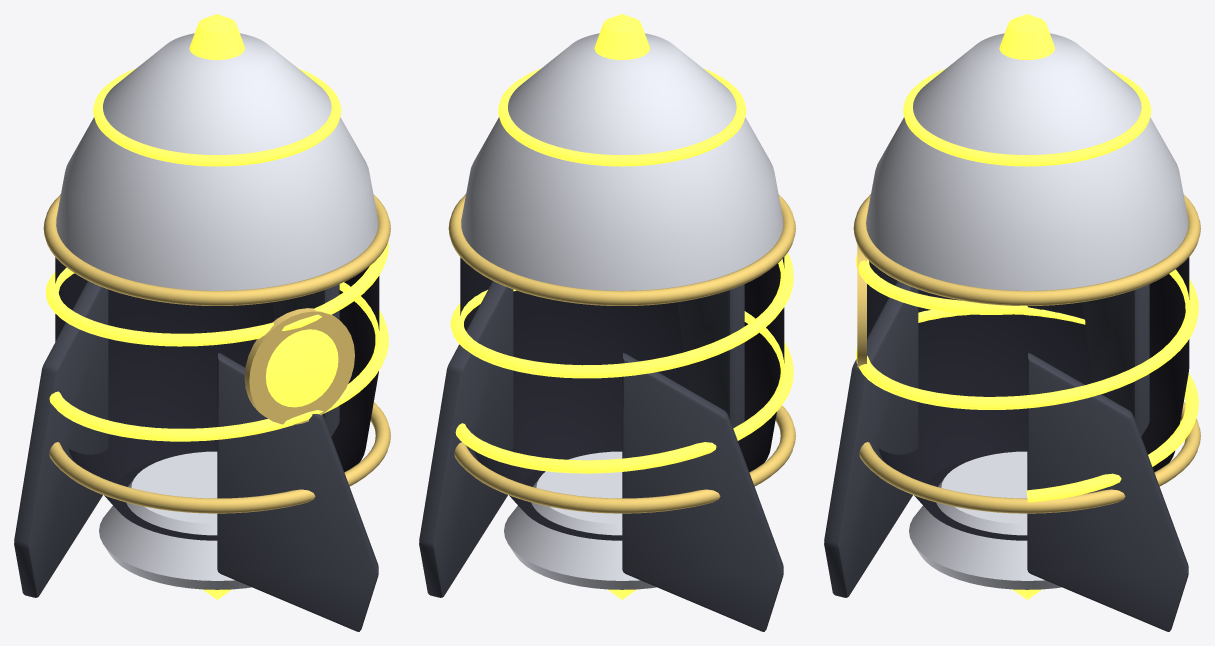
Rendered from CrateTrail.fbx.
3 renders of one model, left to right at view 1: azimuth 30°, elevation 25°; view 2: azimuth 150°, elevation 25°; view 3: azimuth 270°, elevation 25°, orthographic.
Visible parts, largest first — view 1: CrateTrail_Lid_Chrome, CrateTrail_Gunmetal, CrateTrail_Dark, CrateTrail_Gold, CrateTrail_Glow, CrateTrail_Chrome, CrateTrail_Lid_Glow; view 2: CrateTrail_Lid_Chrome, CrateTrail_Gunmetal, CrateTrail_Dark, CrateTrail_Gold, CrateTrail_Glow, CrateTrail_Chrome, CrateTrail_Lid_Glow; view 3: CrateTrail_Lid_Chrome, CrateTrail_Gunmetal, CrateTrail_Dark, CrateTrail_Gold, CrateTrail_Glow, CrateTrail_Chrome, CrateTrail_Lid_Glow.
Boxes of the visible parts, x1=… form: CrateTrail_Lid_Chrome: x1=56, y1=33, x2=378, y2=290; CrateTrail_Gunmetal: x1=14, y1=281, x2=378, y2=631; CrateTrail_Dark: x1=55, y1=257, x2=379, y2=540; CrateTrail_Gold: x1=43, y1=194, x2=390, y2=513; CrateTrail_Glow: x1=46, y1=241, x2=388, y2=599; CrateTrail_Chrome: x1=99, y1=451, x2=251, y2=589; CrateTrail_Lid_Glow: x1=93, y1=14, x2=341, y2=166; CrateTrail_Lid_Chrome: x1=461, y1=33, x2=783, y2=290; CrateTrail_Gunmetal: x1=419, y1=281, x2=783, y2=631; CrateTrail_Dark: x1=460, y1=257, x2=784, y2=540; CrateTrail_Gold: x1=448, y1=194, x2=795, y2=513; CrateTrail_Glow: x1=450, y1=252, x2=793, y2=599; CrateTrail_Chrome: x1=504, y1=451, x2=656, y2=589; CrateTrail_Lid_Glow: x1=498, y1=14, x2=746, y2=166; CrateTrail_Lid_Chrome: x1=866, y1=33, x2=1188, y2=290; CrateTrail_Gunmetal: x1=824, y1=281, x2=1188, y2=631; CrateTrail_Dark: x1=867, y1=257, x2=1189, y2=540; CrateTrail_Gold: x1=853, y1=194, x2=1200, y2=513; CrateTrail_Glow: x1=855, y1=253, x2=1198, y2=599; CrateTrail_Chrome: x1=909, y1=451, x2=1061, y2=589; CrateTrail_Lid_Glow: x1=903, y1=14, x2=1151, y2=166.
Size of the model in its own units: 2.01 by 3.39 by 1.97.
